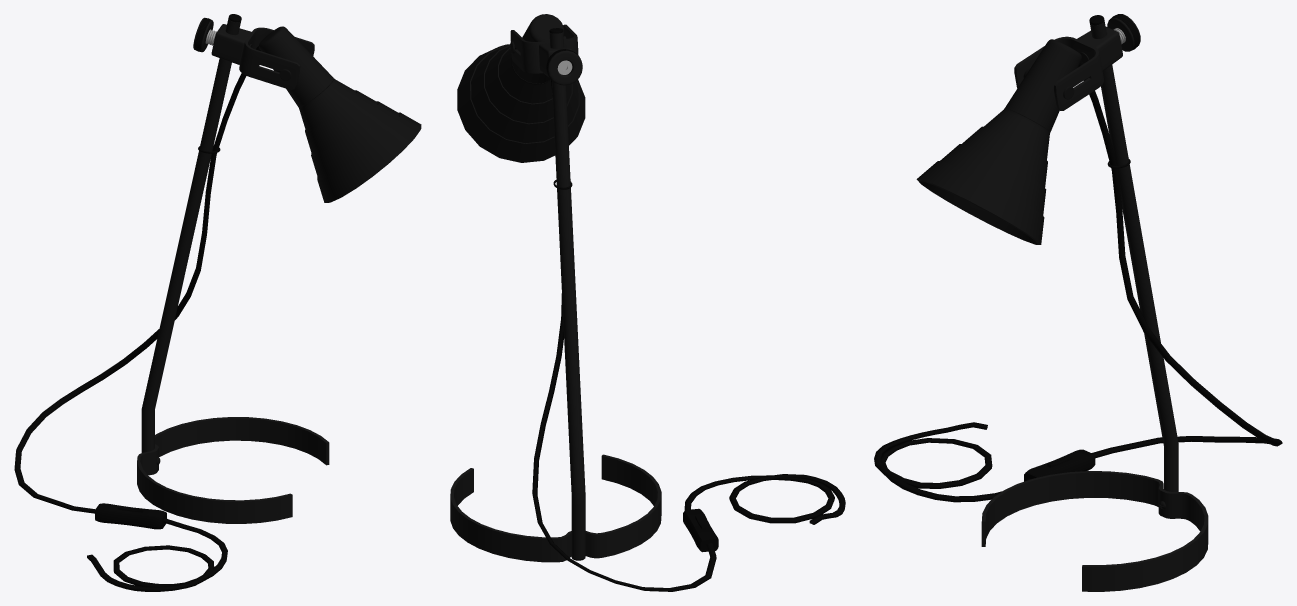
Rendered from lamp.fbx.
The picture shows the model from 3 angles, left to right: view 1: azimuth 30°, elevation 25°; view 2: azimuth 150°, elevation 25°; view 3: azimuth 270°, elevation 25°; orthographic projection. The views are drawn at different scales.
Parts seen in each view (by area): view 1: lamp; view 2: lamp; view 3: lamp.
Boxes of the visible parts, left/top/right/bottom form: lamp: left=14, top=14, right=421, bottom=591; lamp: left=450, top=14, right=845, bottom=591; lamp: left=874, top=14, right=1282, bottom=591.
Bounding box in the file's own units: 92.17 × 123 × 86.34.
